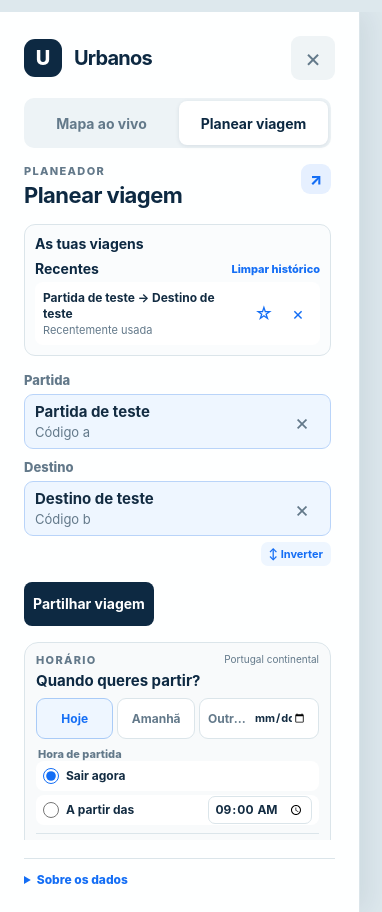
Test: planeador com armazenamento indisponível › continua a pesquisar e fixar viagens quando falha read
The image size is (382, 912).
Step 1. Click the button named "Fixar viagem" → (264, 314), box [247,296,281,332]
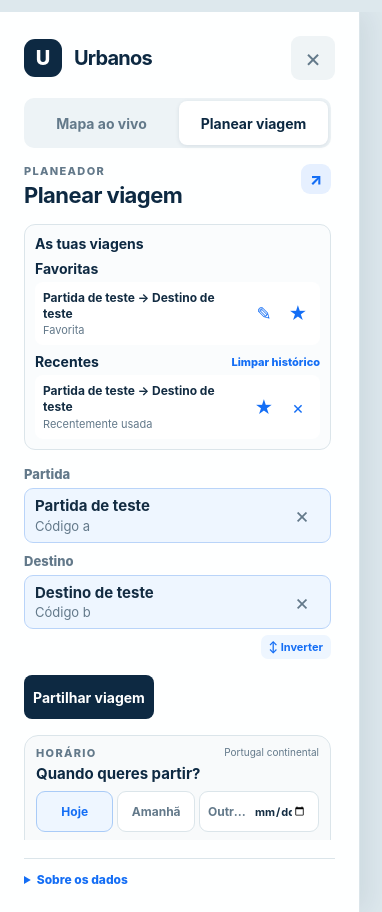
Expected: the text "Partida de teste" is shown, [35,497,150,516]
Expected: the button named "Desafixar viagem" is shown, [281,296,315,332]
